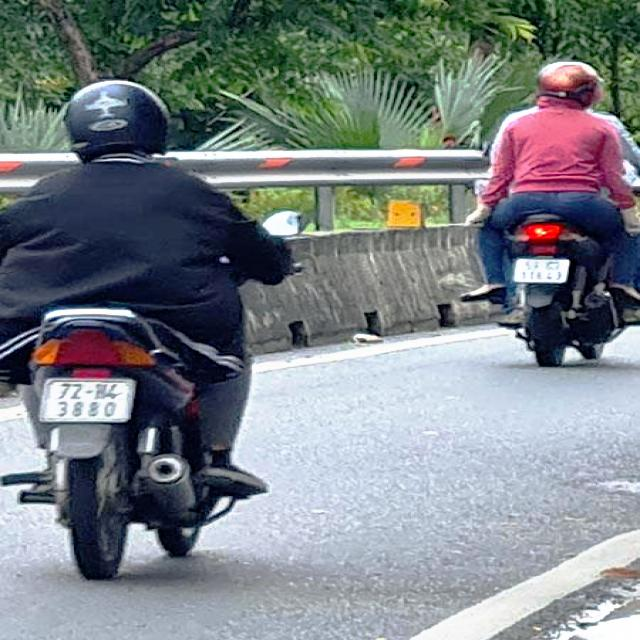license_plate: (40, 379, 136, 424)
